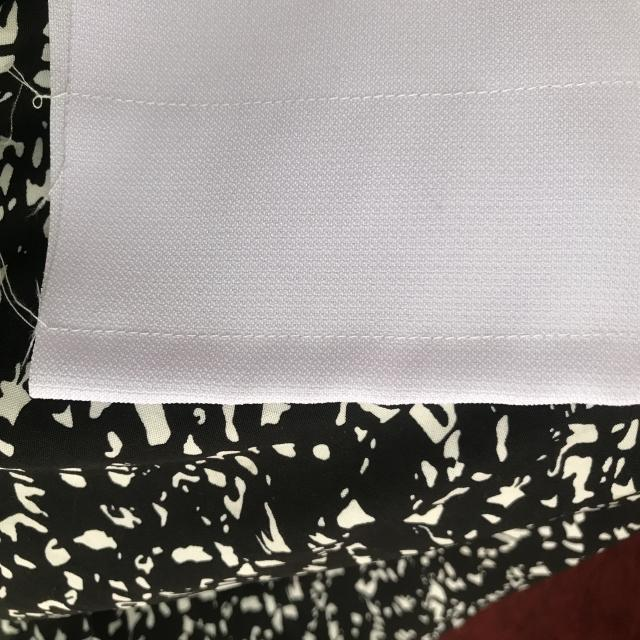good: (79, 316, 245, 358), (298, 84, 518, 114), (343, 324, 479, 361), (129, 87, 252, 119)
